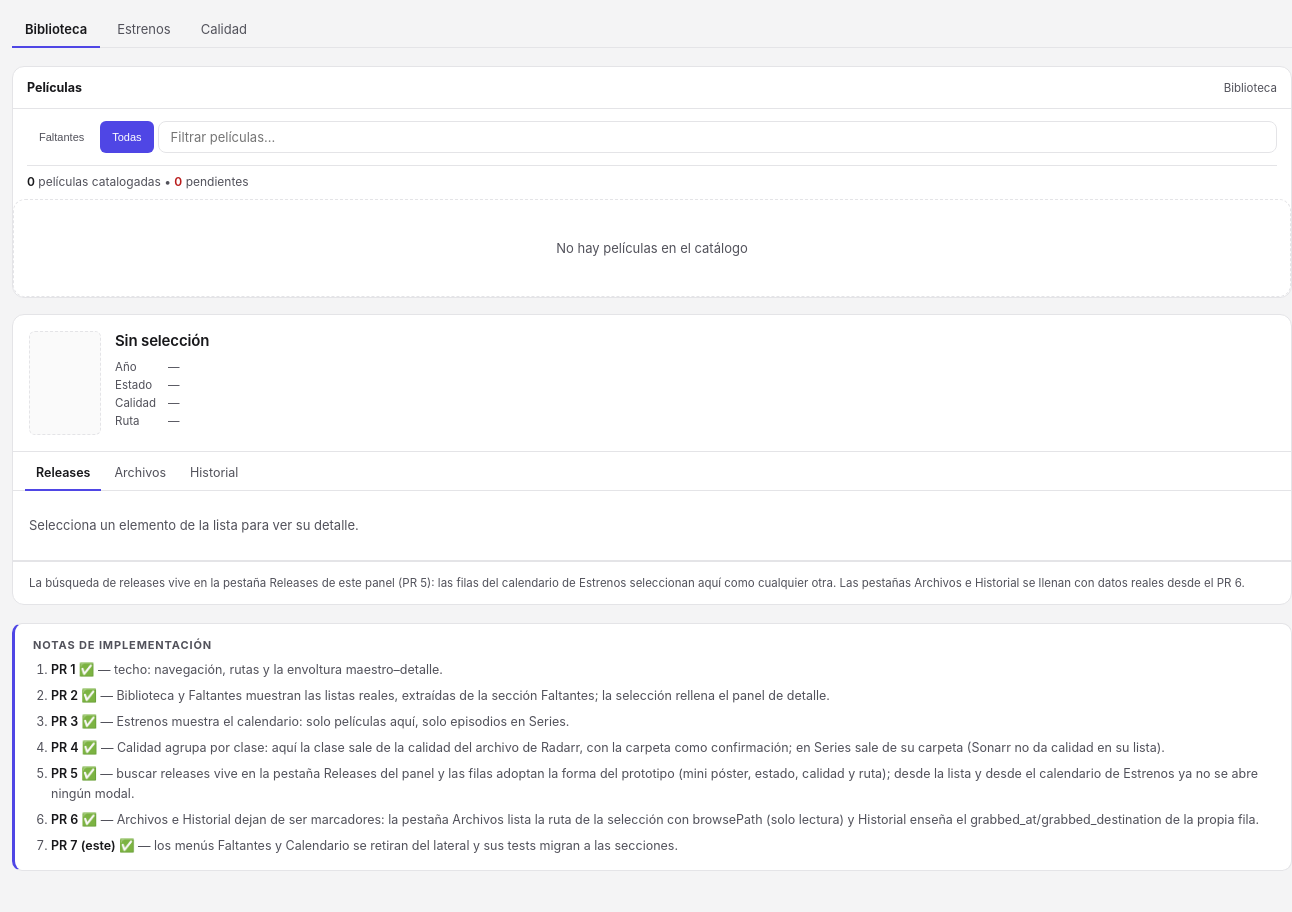
Test: Películas › renders the master–detail frame with its columns and its panel
The width and height of the screenshot is (1292, 912).
Expected: the text "No hay películas en el catálogo" is shown, [13,199,1291,297]
Click the tab "Calidad" at (224, 30), box [188,12,260,48]
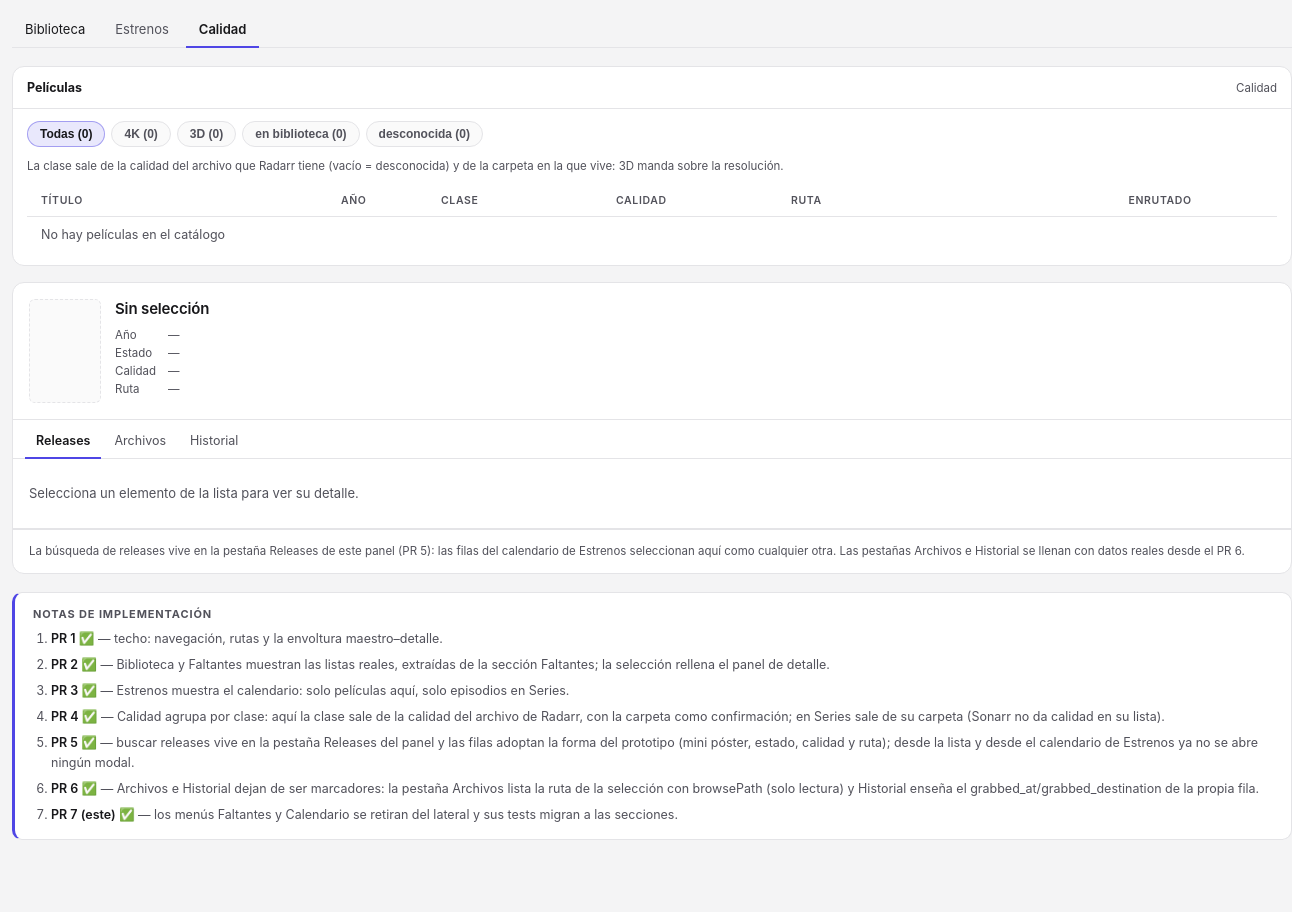
Expected: the text "No hay películas en el catálogo" is shown, [27,217,1277,253]
Expected: the column headings read "Título", "Año", "Clase", "Calidad", "Ruta", "Enrutado", in this order, [27,185,327,217]; [327,185,427,217]; [427,185,602,217]; [602,185,777,217]; [777,185,1114,217]; [1114,185,1277,217]
